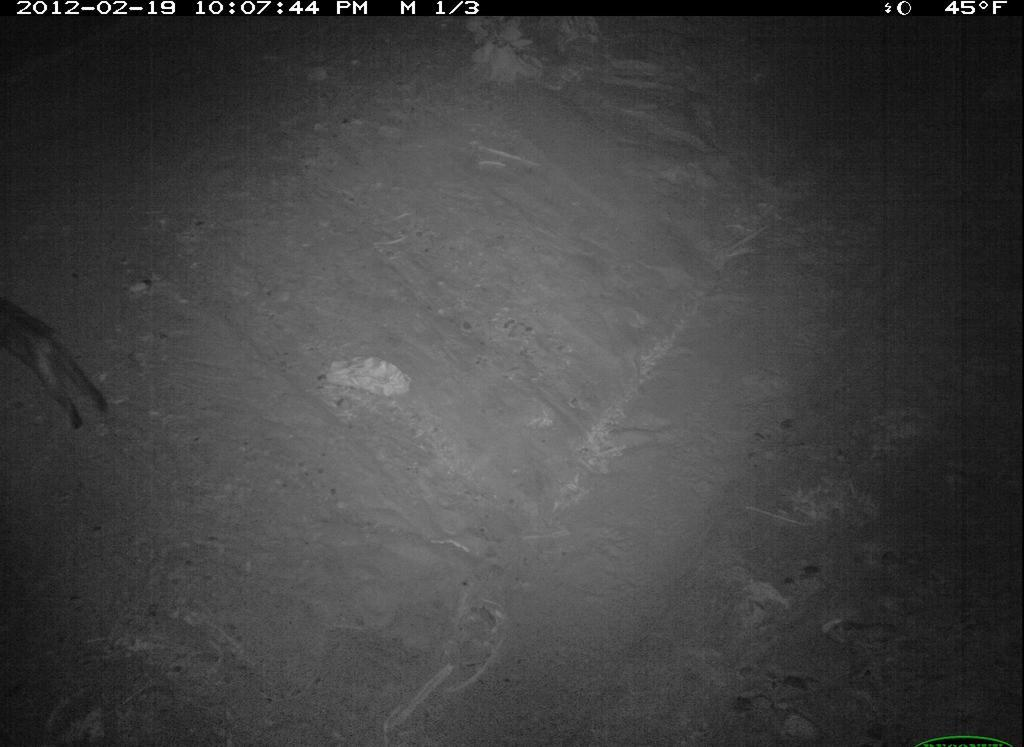cat: (2, 282, 125, 440)
